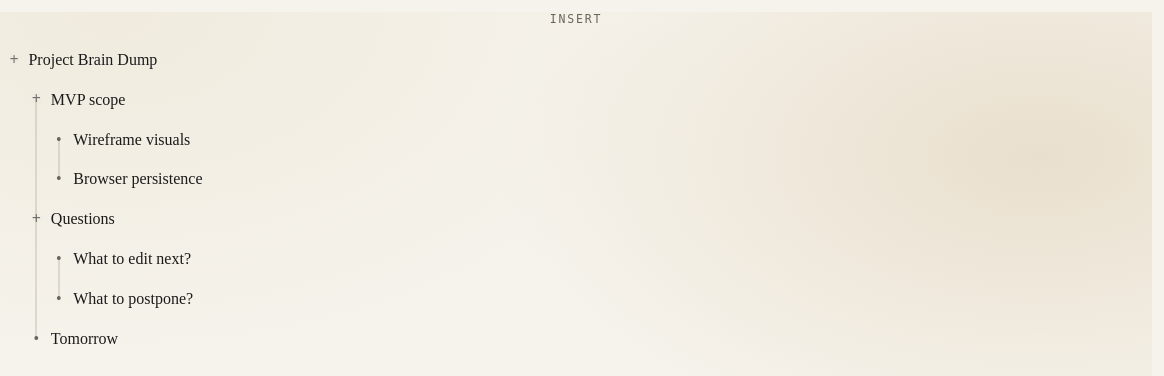
OutlinerWireframe › collapses and expands descendants for parent rows
What coordinates should you click on to do the following:
click the button named "Collapse MVP scope"
I would click on:
 (36, 99)
Its box is [31,91,42,107].
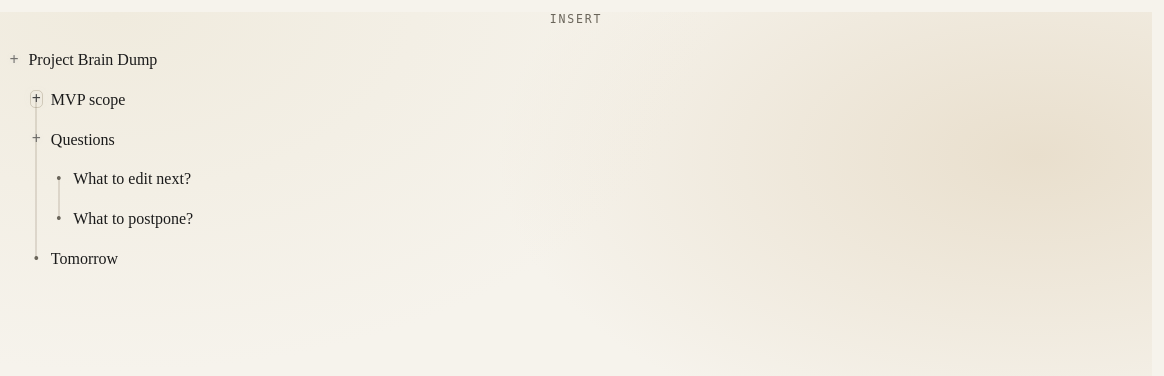
Expected: the field showing "Wireframe visuals" is not shown
Expected: the field showing "Browser persistence" is not shown
What coordinates should you click on to do the following:
click the button named "Expand MVP scope"
I would click on:
 (36, 99)
Its box is [31,91,42,107].
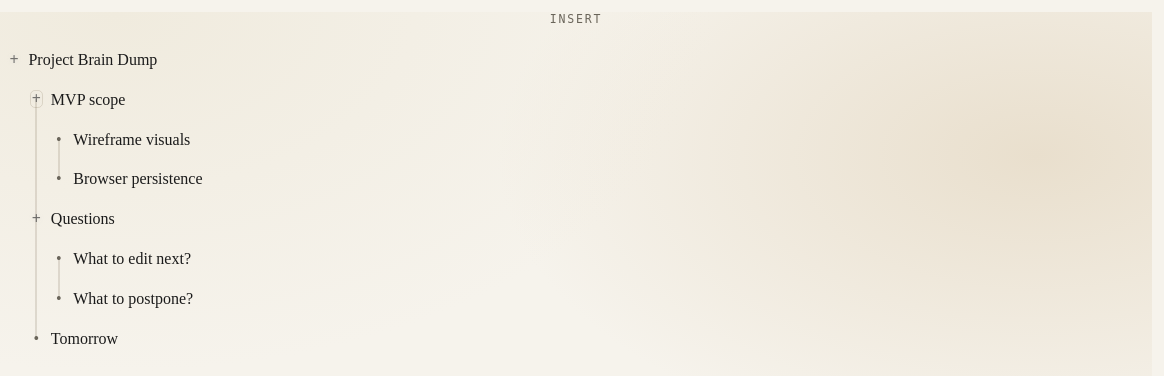
Expected: the field showing "Wireframe visuals" is shown, [73,128,1152,151]
Expected: the field showing "Browser persistence" is shown, [73,167,1152,190]
